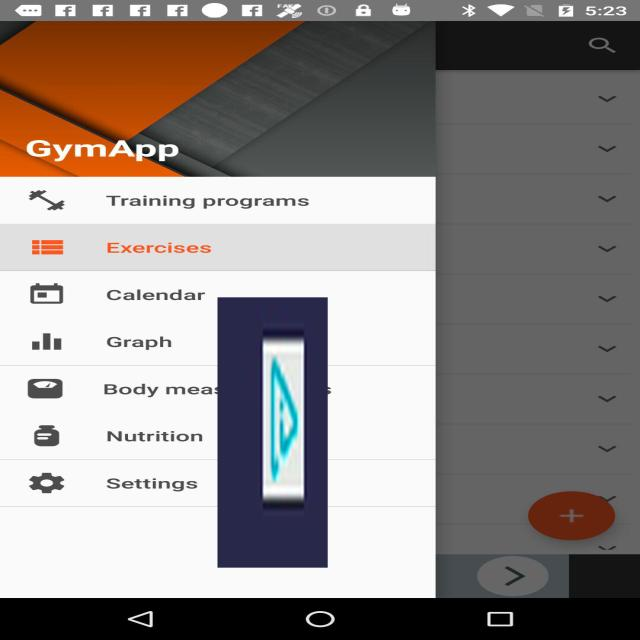sneaking: (218, 297, 328, 568)
